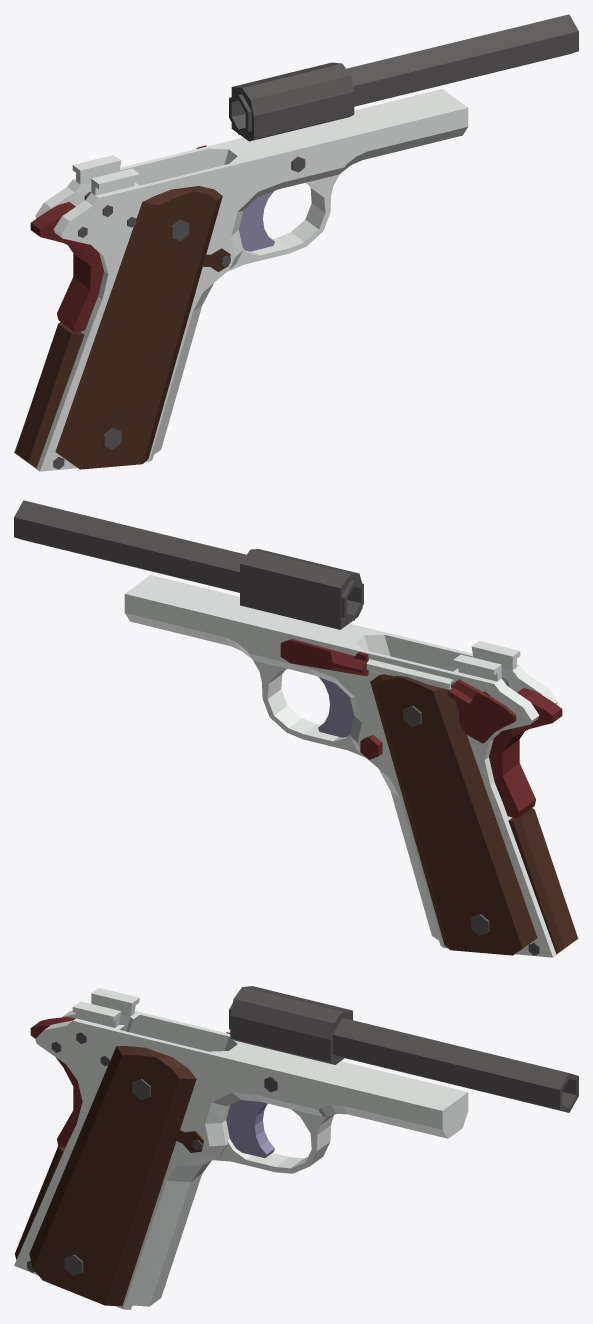
Rendered from m1911-3-bodyandtrigger.fbx.
3 renders of one model, top to bottom at view 1: azimuth 30°, elevation 25°; view 2: azimuth 150°, elevation 25°; view 3: azimuth 330°, elevation 25°, orthographic.
Parts seen in each view (by area): view 1: body, trigger; view 2: body, trigger; view 3: body, trigger.
Part boxes in pixels (<box>): body: <box>14,14,578,471</box>; trigger: <box>239,191,274,251</box>; body: <box>14,500,578,957</box>; trigger: <box>318,677,353,737</box>; body: <box>14,986,578,1309</box>; trigger: <box>226,1100,274,1157</box>.
Bounding box in the file's own units: 0.2192 × 0.1297 × 0.0278.
